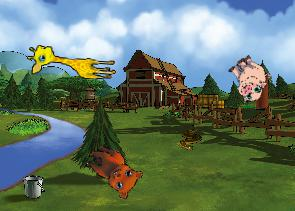bear: (77, 141, 146, 202)
giraffe: (26, 43, 117, 80)
pig: (221, 50, 276, 106)
